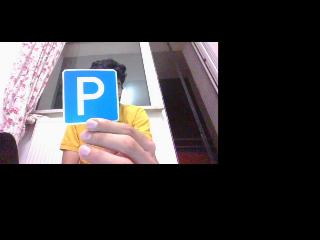parking: (62, 70, 120, 122)
